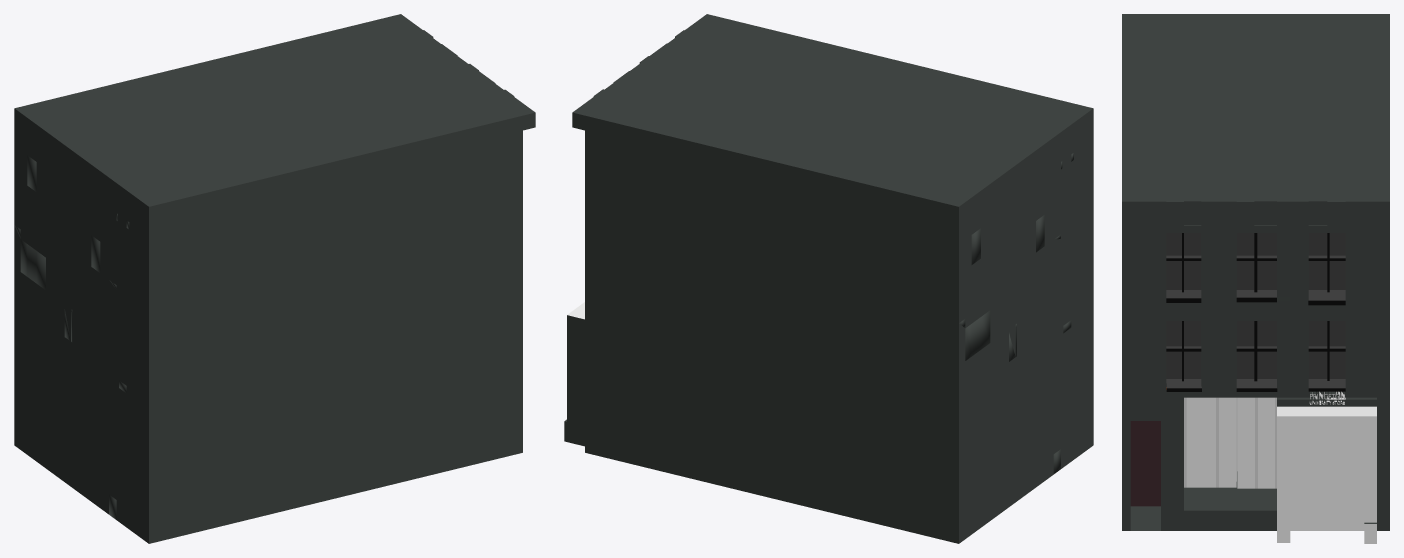
3 renders of one model, left to right at view 1: azimuth 30°, elevation 25°; view 2: azimuth 150°, elevation 25°; view 3: azimuth 270°, elevation 25°, orthographic.
Visible parts, largest first — view 1: Ustore; view 2: Ustore; view 3: Ustore.
Part boxes in pixels (left/top/right/bottom): Ustore: left=14, top=14, right=535, bottom=543; Ustore: left=564, top=14, right=1093, bottom=543; Ustore: left=1122, top=14, right=1389, bottom=543.
Size of the model in its own units: 49.04 by 39.4 by 28.52.
